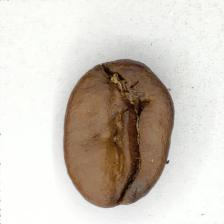NG: (81, 84, 151, 205)
